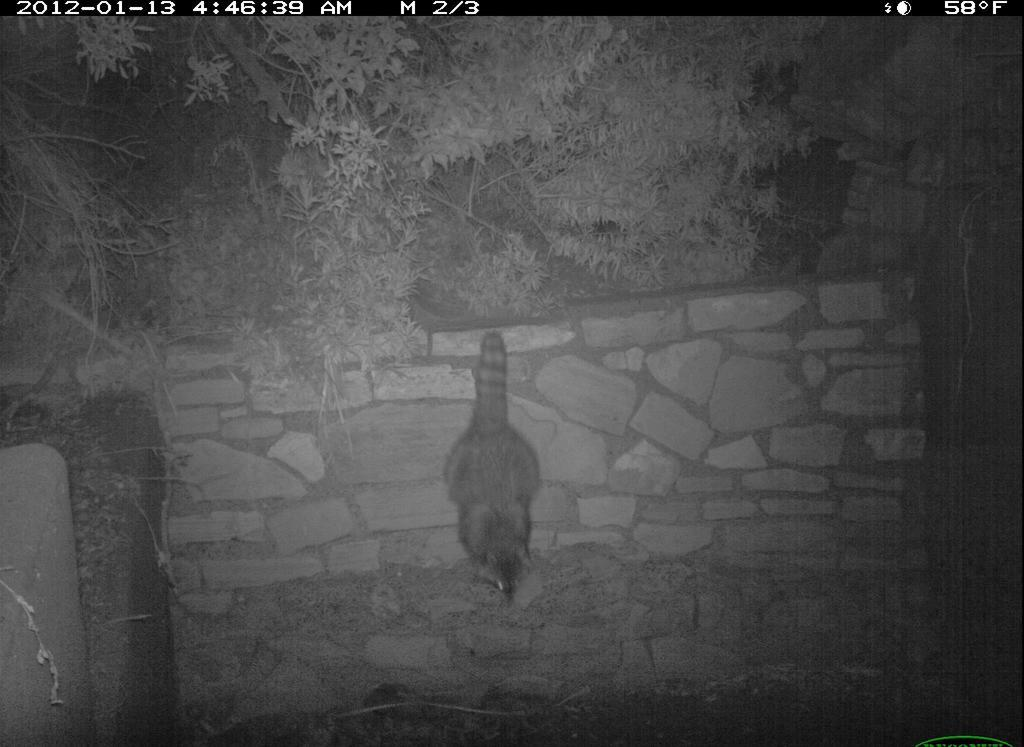raccoon: (436, 326, 573, 615)
